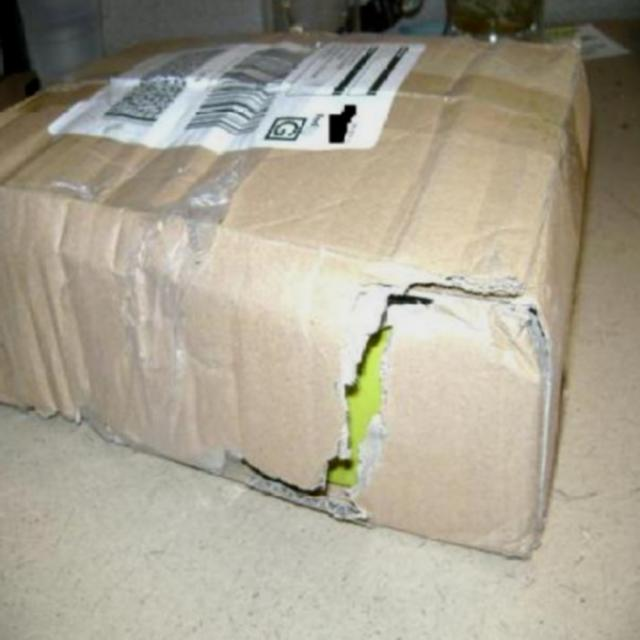box: (152, 144, 477, 487)
